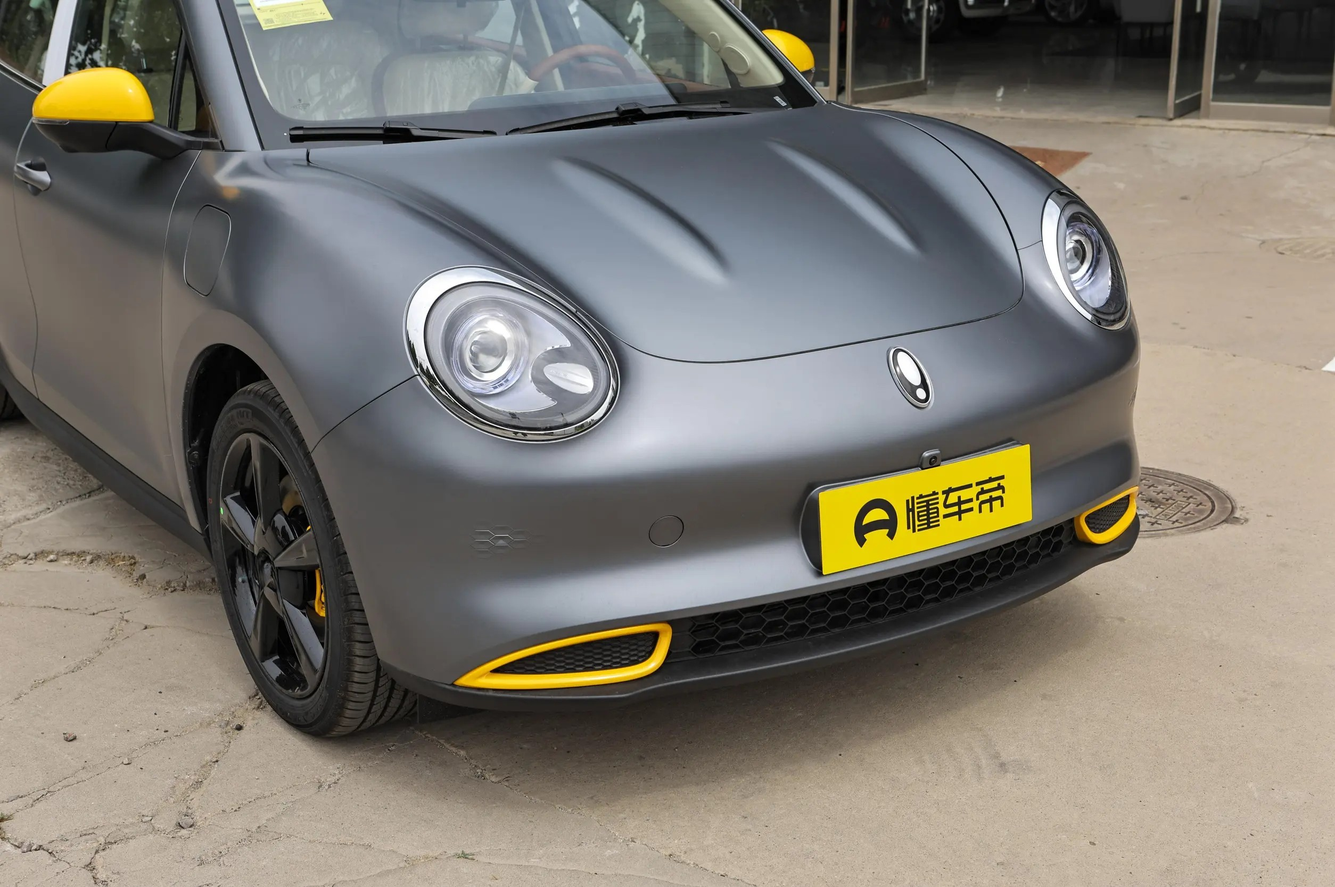ORA: (889, 347, 931, 407)
